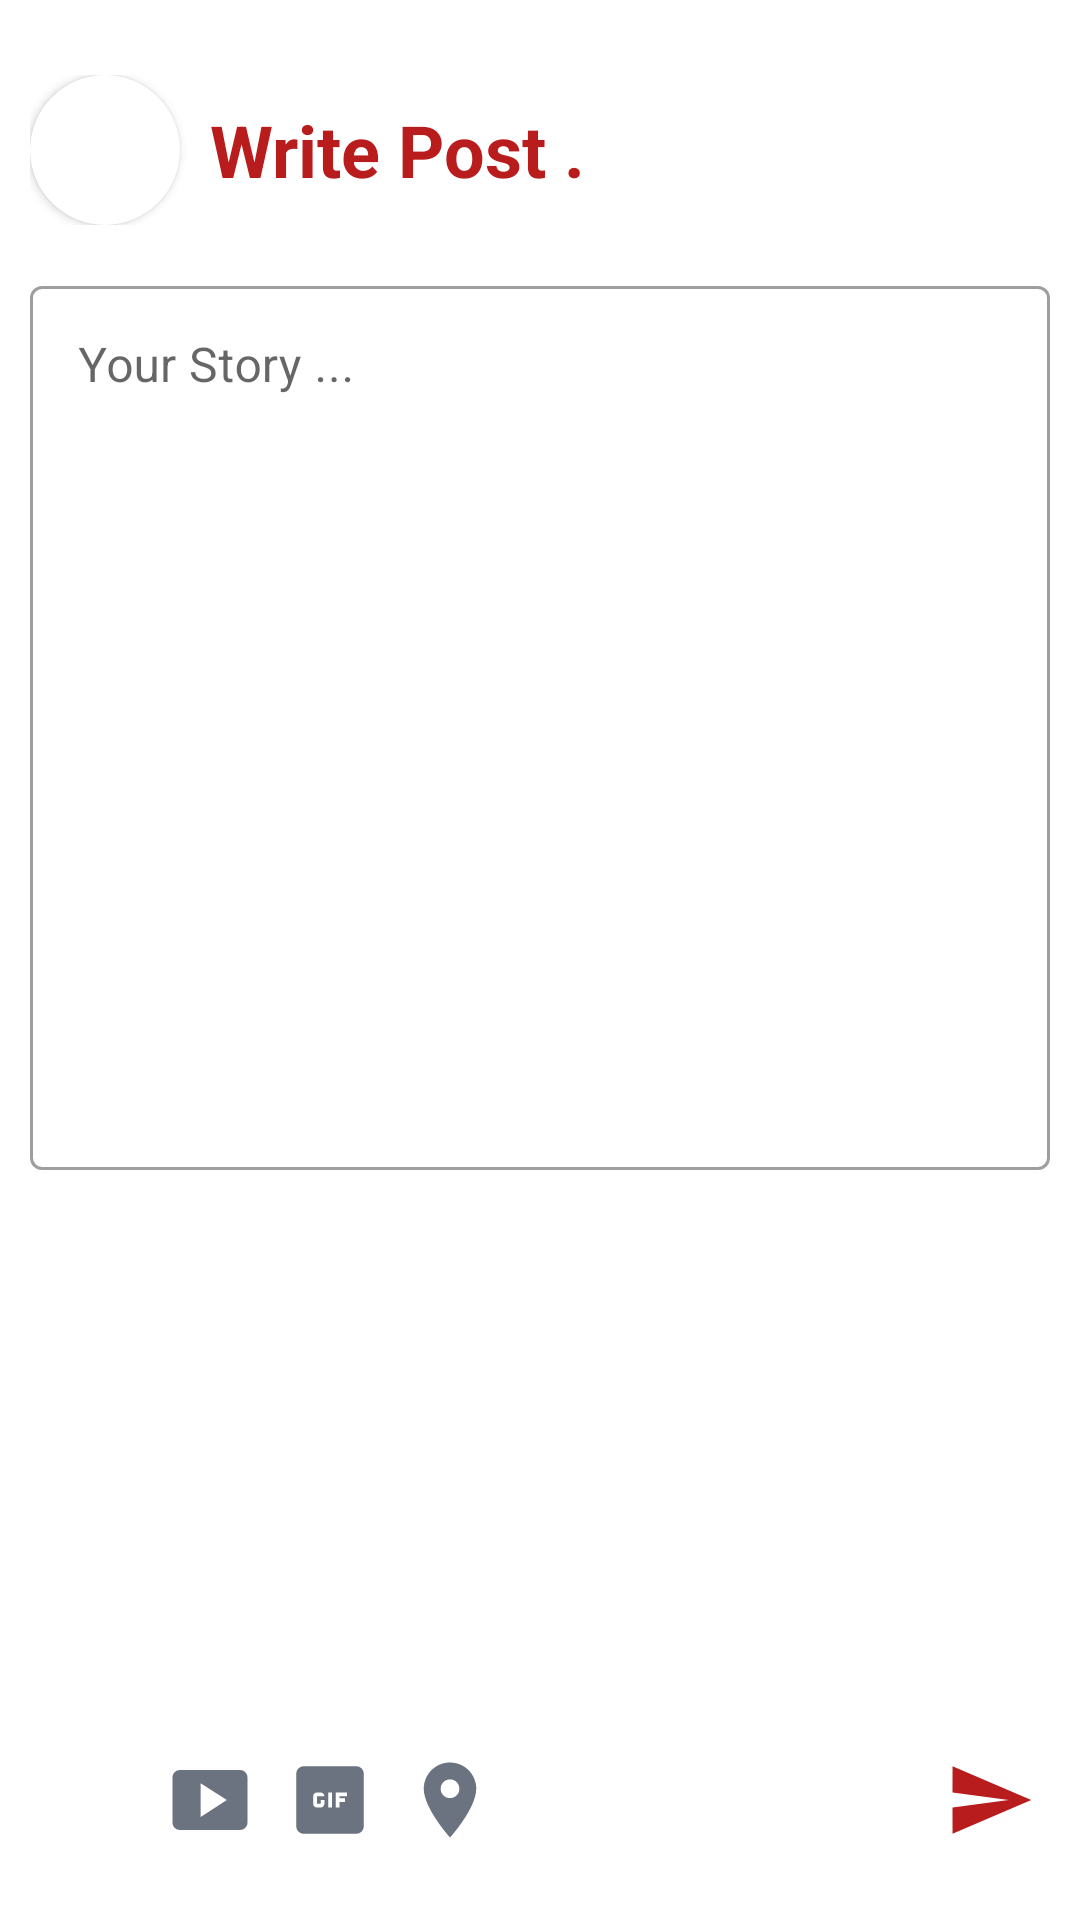

Icons on this 1080px×1920px Android screen, each with the point to tap as [x,y]:
location on: [450,1799]
send: [991,1800]
